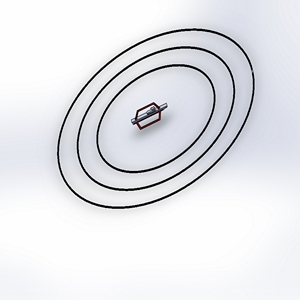circle: (51, 26, 263, 218)
submarine: (124, 94, 177, 136)
